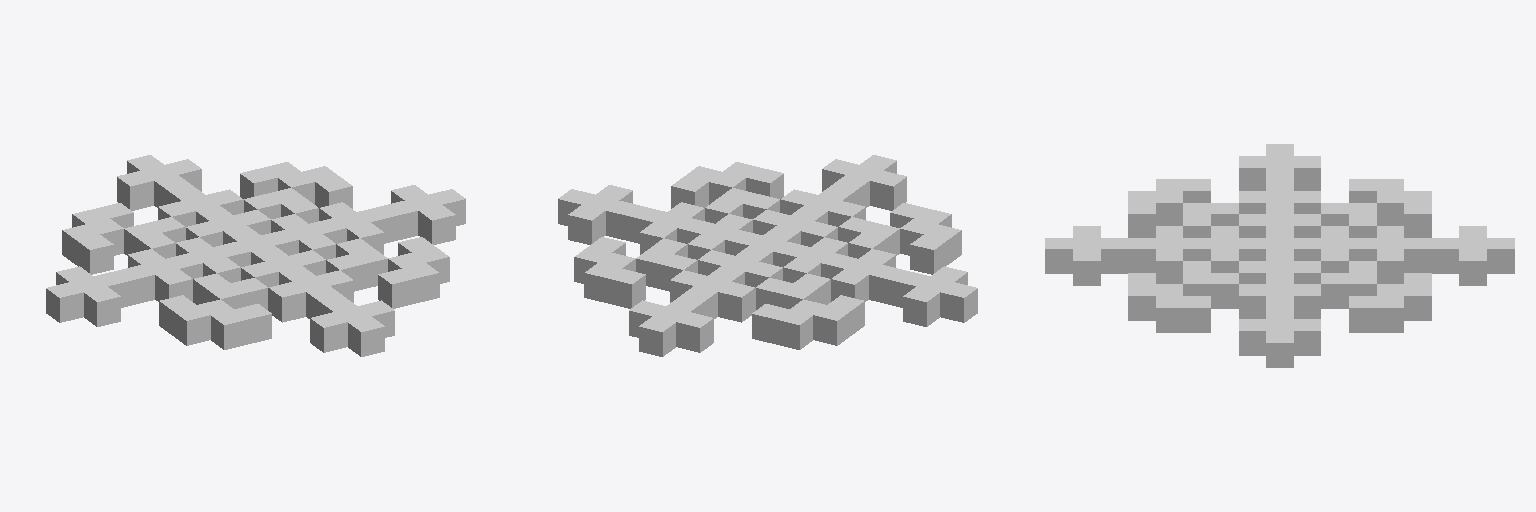
The picture shows the model from 3 angles: view 1: azimuth 30°, elevation 25°; view 2: azimuth 150°, elevation 25°; view 3: azimuth 270°, elevation 25°; orthographic projection.
Parts seen in each view (by area): view 1: Sneshinka2; view 2: Sneshinka2; view 3: Sneshinka2.
Part boxes in pixels (bbox=[...]): Sneshinka2: bbox=[46, 155, 465, 356]; Sneshinka2: bbox=[558, 155, 977, 356]; Sneshinka2: bbox=[1045, 144, 1514, 367].
Bounding box in the file's own units: 1.7 × 0.1 × 1.7.
Materials: 1 (1 with a texture image).